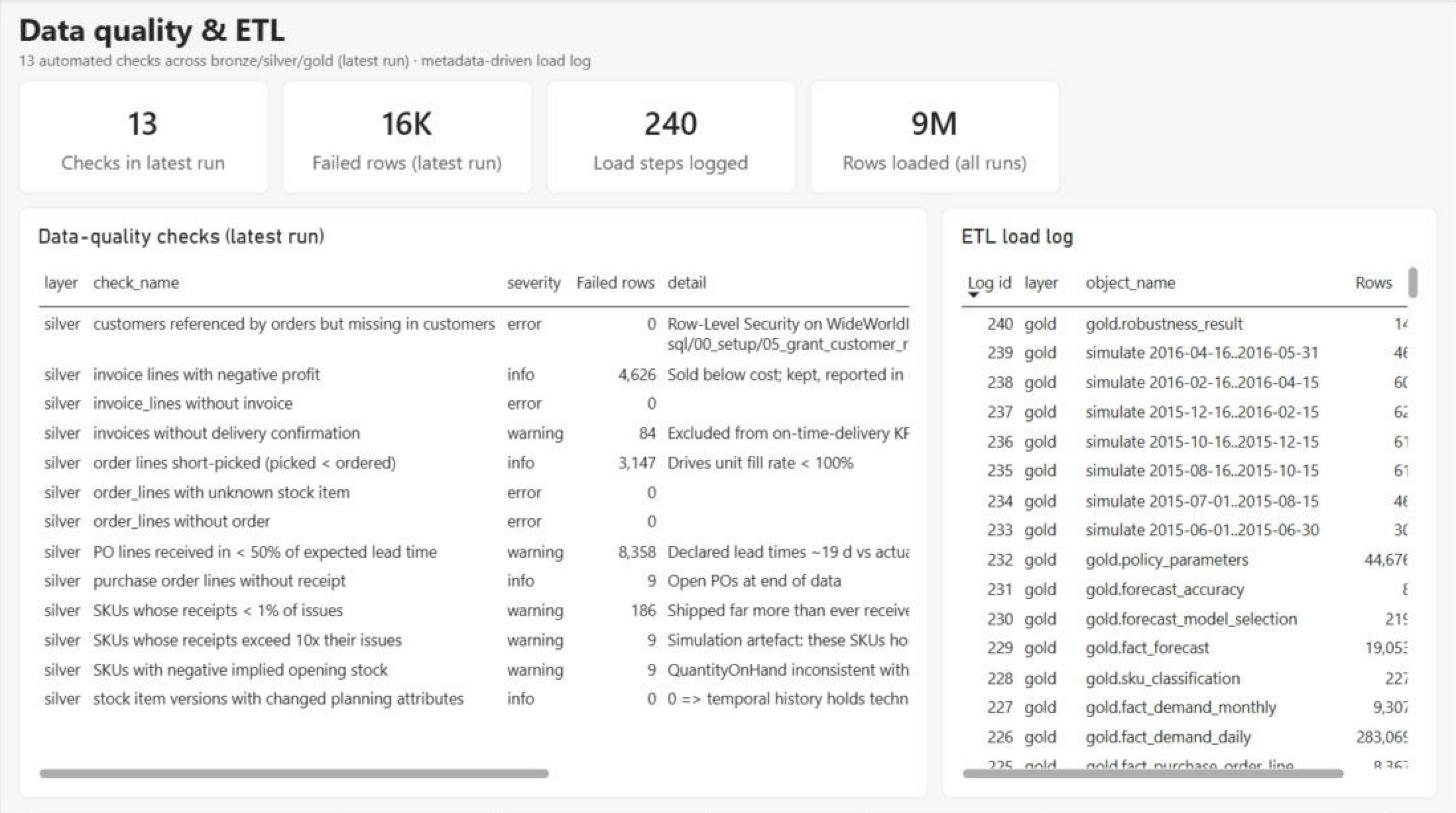

What the dashboard file says about the page in this screenshot:
{"tool":"powerbi","page":{"name":"Data quality & ETL","canvas":[1280,720],"ordinal":5},"visuals":[{"type":"textbox","box":[16,8,1248,56],"z":1000},{"type":"card","title":"Checks in latest run","fields":{"Values":["Count(DQ Results.check_name)"]},"box":[16,72,220,100],"z":2000},{"type":"card","title":"Failed rows (latest run)","fields":{"Values":["Sum(DQ Results.failed_rows)"]},"box":[248,72,220,100],"z":3000},{"type":"card","title":"Load steps logged","fields":{"Values":["Count(Load Log.log_id)"]},"box":[480,72,220,100],"z":4000},{"type":"card","title":"Rows loaded (all runs)","fields":{"Values":["Sum(Load Log.rows_affected)"]},"box":[712,72,220,100],"z":5000},{"type":"tableEx","title":"Data-quality checks (latest run)","fields":{"Values":["DQ Results.layer","DQ Results.check_name","DQ Results.severity","Sum(DQ Results.failed_rows)","DQ Results.detail"]},"box":[16,184,800,520],"z":6000},{"type":"tableEx","title":"ETL load log","fields":{"Values":["Load Log.log_id","Load Log.layer","Load Log.object_name","Sum(Load Log.rows_affected)","Load Log.status"]},"box":[828,184,436,520],"z":7000}]}

Visuals, with their boxes in screenshot pixels (x1, y1, x2, y2), scaled from the page's 1280x720 canvas onto the 1456x813 screenshot:
textbox: l=18, t=9, r=1438, b=72
"Checks in latest run" card: l=18, t=81, r=268, b=194
"Failed rows (latest run)" card: l=282, t=81, r=532, b=194
"Load steps logged" card: l=546, t=81, r=796, b=194
"Rows loaded (all runs)" card: l=810, t=81, r=1060, b=194
"Data-quality checks (latest run)" tableEx: l=18, t=208, r=928, b=795
"ETL load log" tableEx: l=942, t=208, r=1438, b=795
